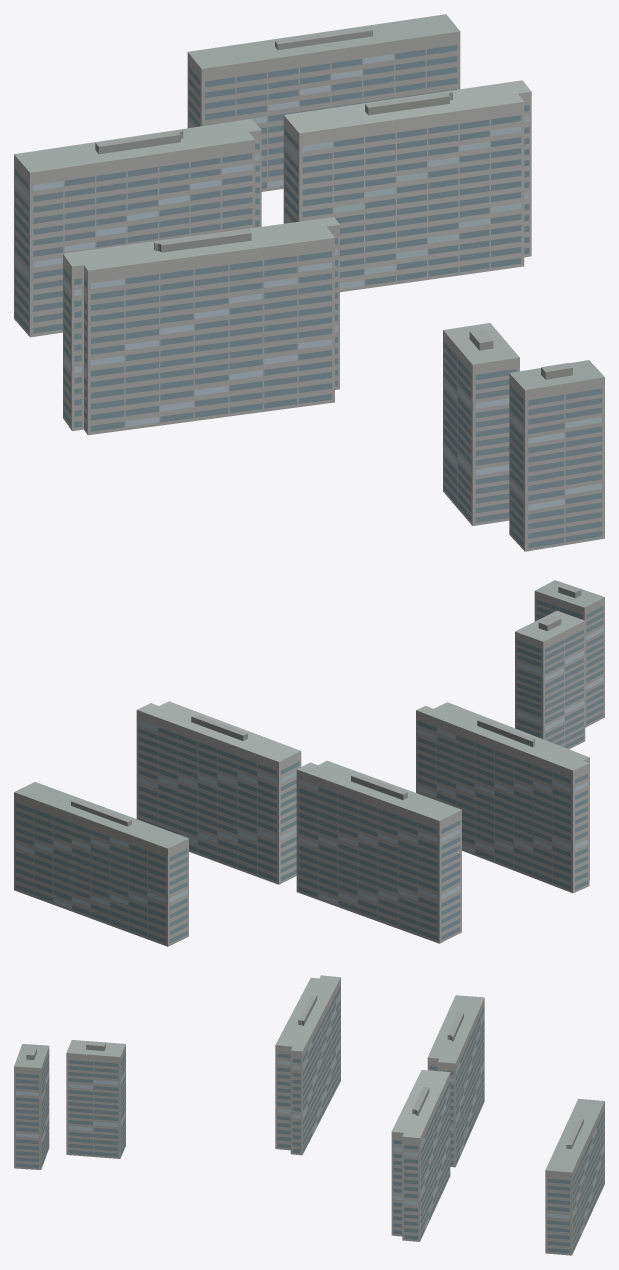
The model's file is apt-a15086202.glb.
The picture shows the model from 3 angles, top to bottom: view 1: azimuth 30°, elevation 25°; view 2: azimuth 150°, elevation 25°; view 3: azimuth 270°, elevation 25°; orthographic projection. The views are drawn at different scales.
Visible parts, largest first — view 1: apt-a15086202; view 2: apt-a15086202; view 3: apt-a15086202.
Part boxes in pixels (x1,y1,x2,y2): apt-a15086202: (14, 14, 604, 551); apt-a15086202: (14, 580, 604, 946); apt-a15086202: (14, 975, 604, 1255).
Size of the model in its own units: 167 by 47.81 by 236.
